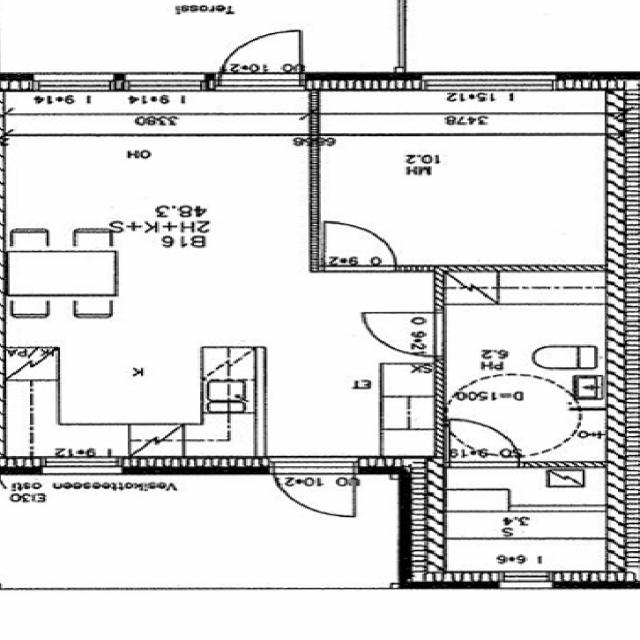door: (218, 22, 300, 90), (274, 456, 354, 522), (362, 312, 445, 356), (324, 221, 396, 271), (449, 418, 519, 467)
